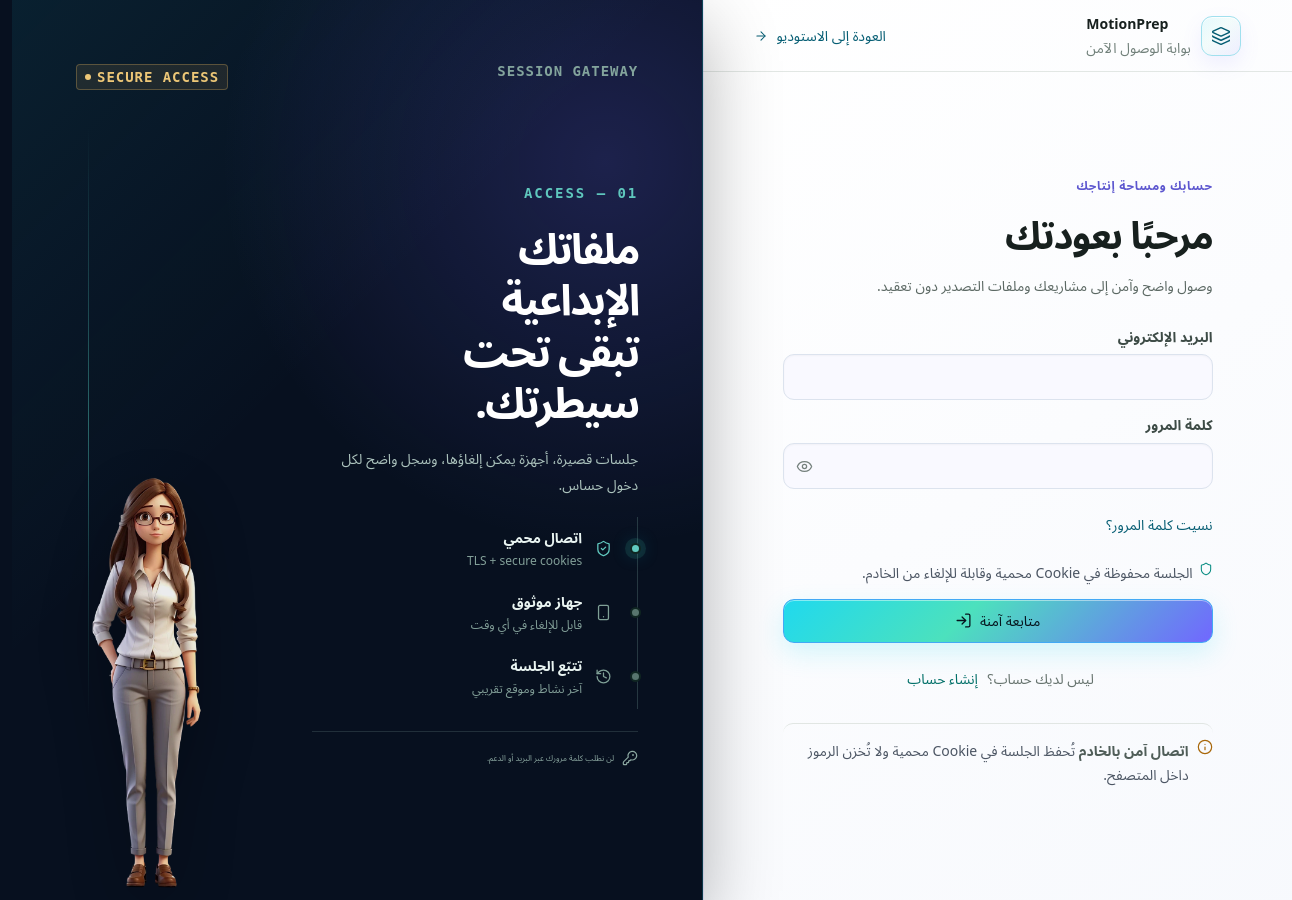
Test: AuthGateway MFA challenge › distinguishes an invalid code from an unavailable server
Step 1. Type "person@example.com" into the field labelled "البريد الإلكتروني" → x=998, y=378, box [784, 356, 1212, 400]
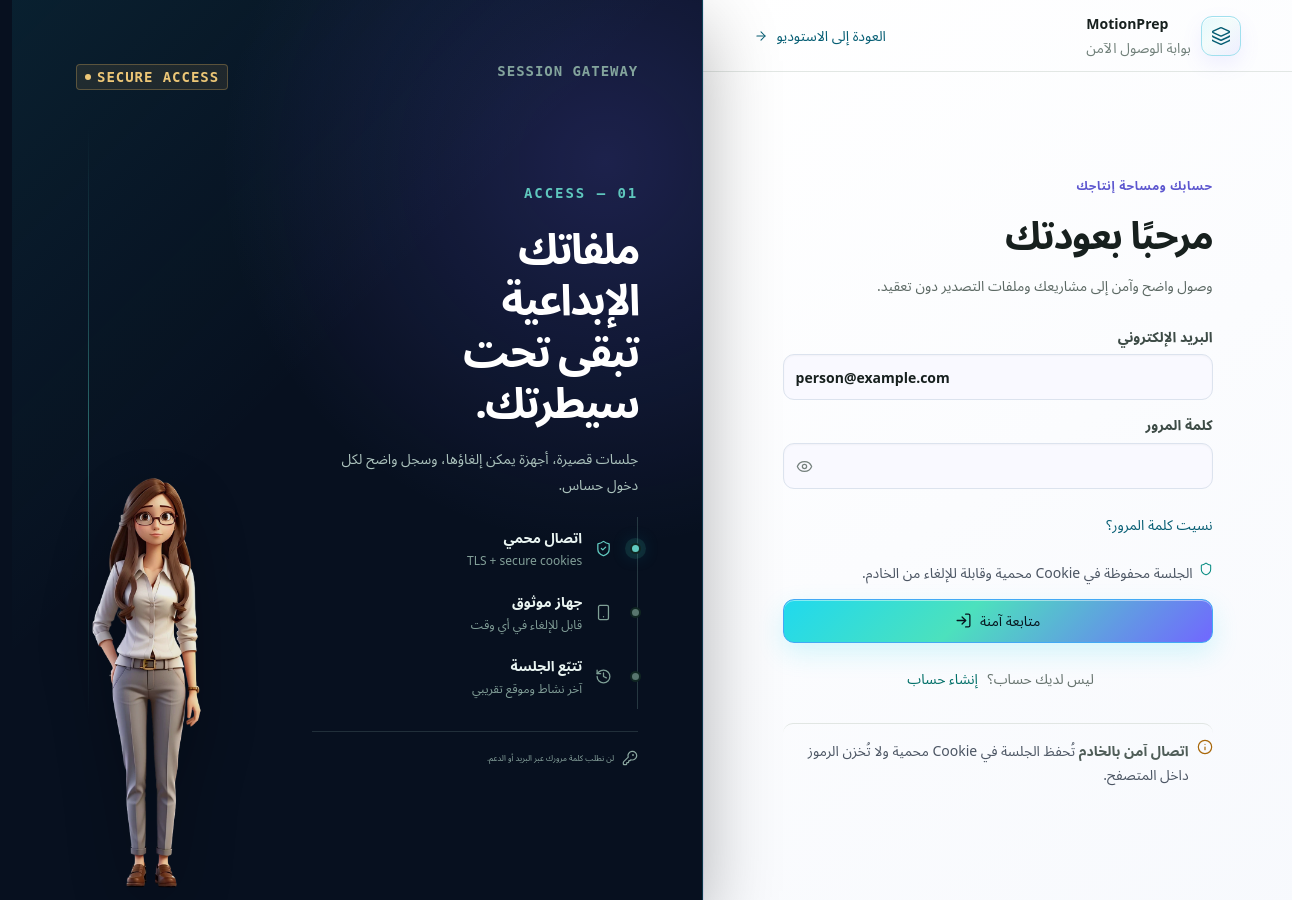
Step 2. Type "Correct-Horse-42!" into the password field labelled "كلمة المرور" → x=1019, y=466, box [826, 444, 1212, 488]
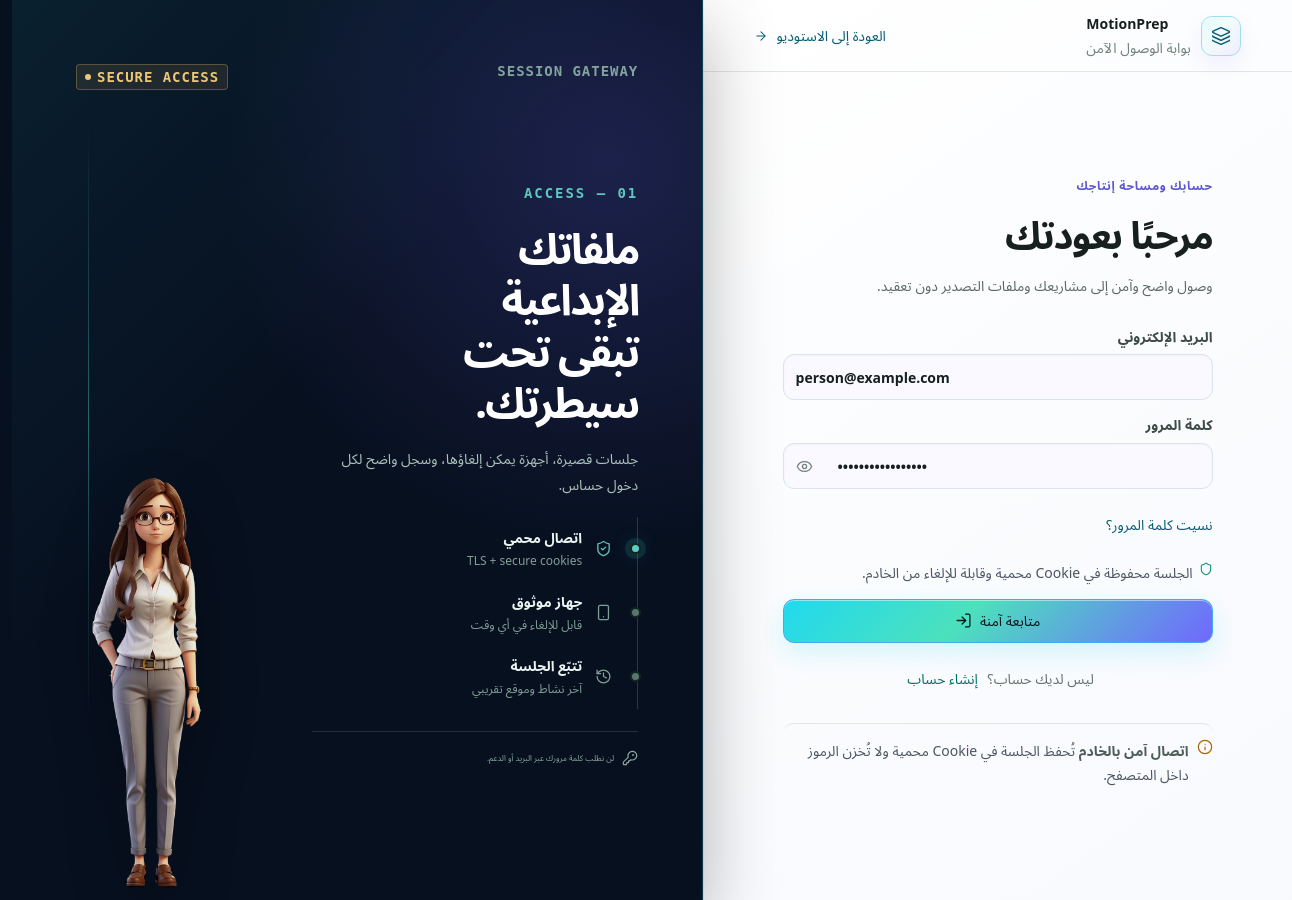
Step 3. Click the button "متابعة آمنة" → x=998, y=621, box [783, 599, 1213, 643]
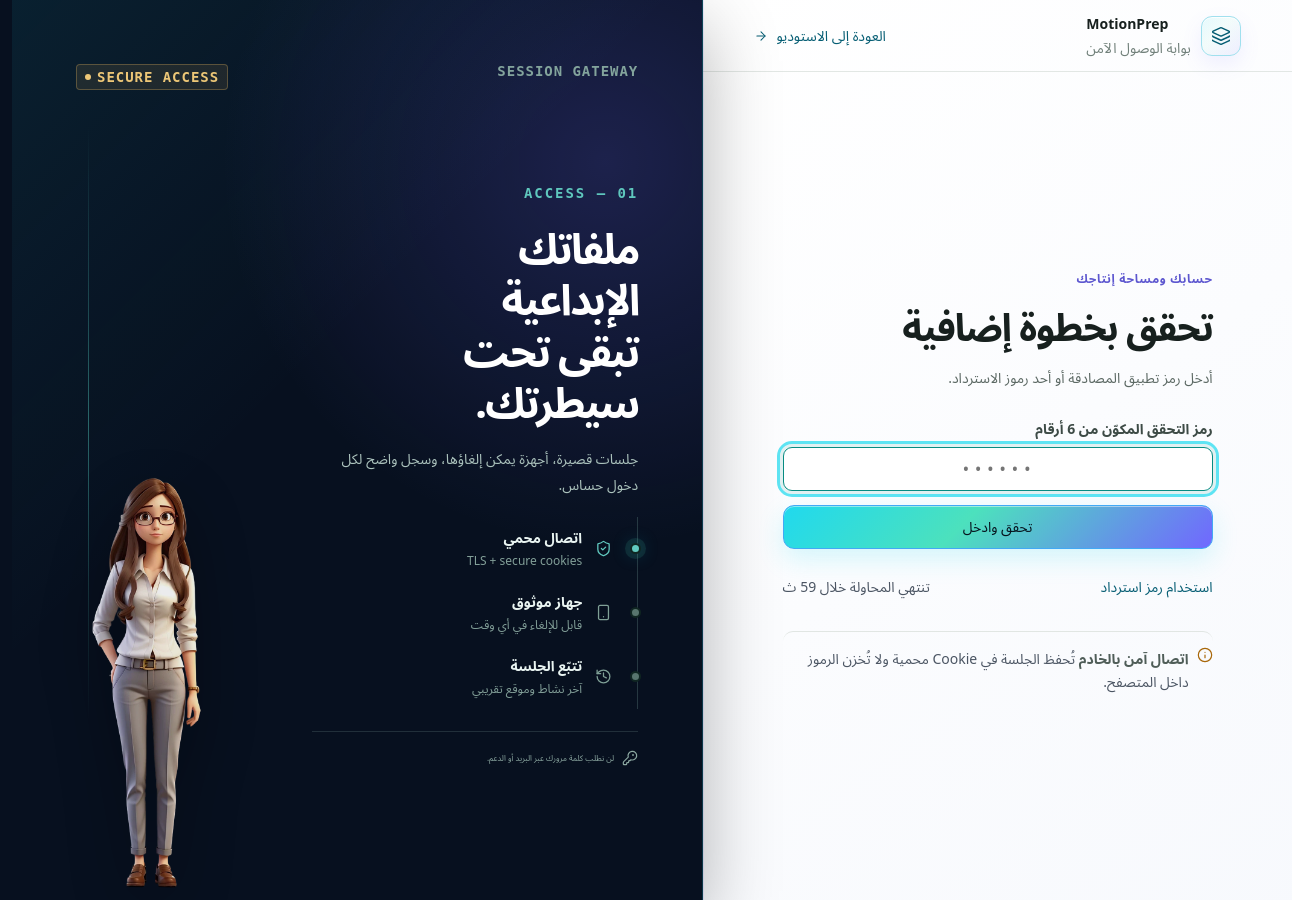
Expected: the field labelled "رمز التحقق" is shown
Step 4. Type "123456" into the field labelled "رمز التحقق" → x=998, y=469, box [783, 447, 1213, 491]
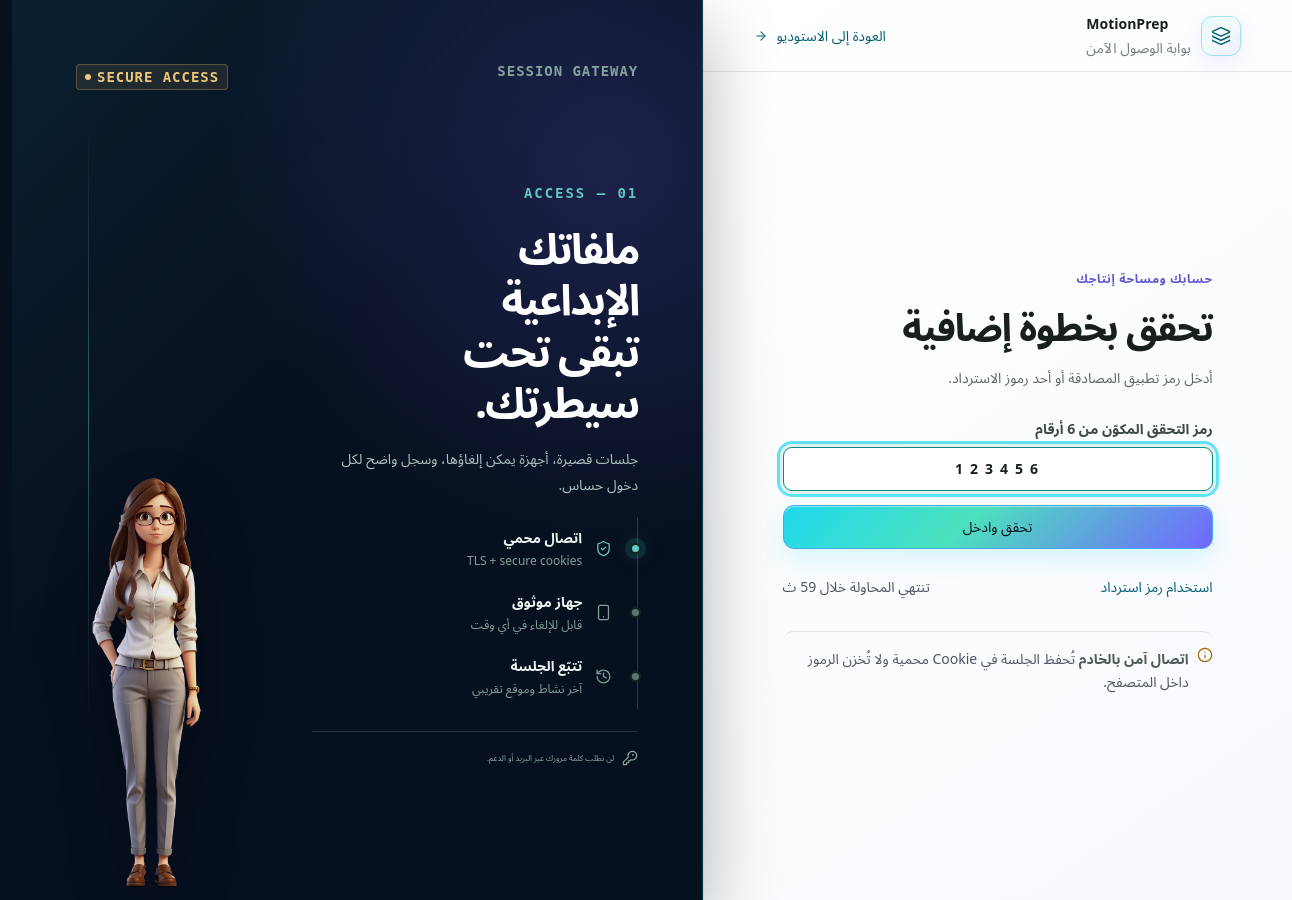
Step 5. Click the button "تحقق وادخل" → x=998, y=527, box [783, 505, 1213, 549]
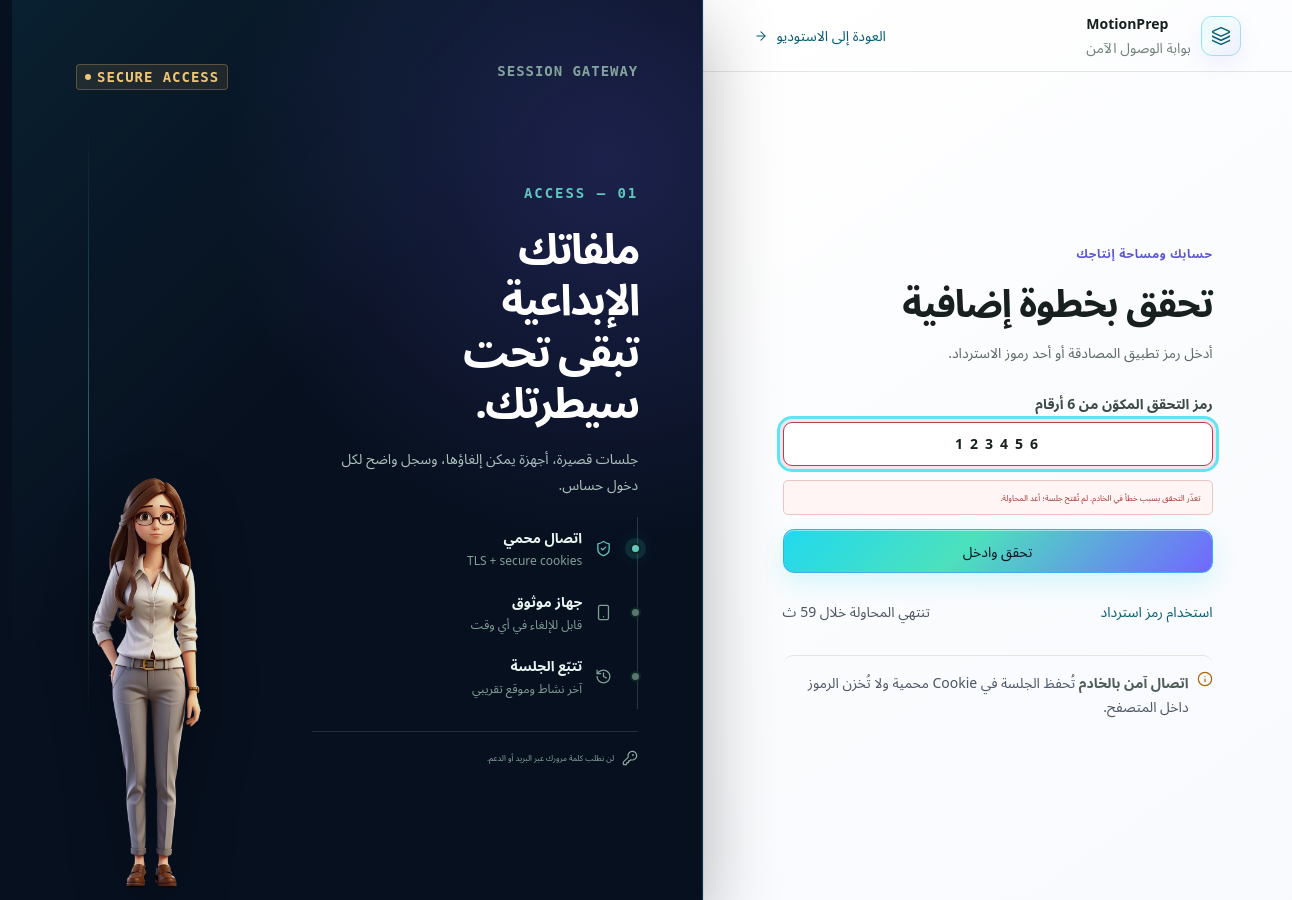
Expected: the message shows "خطأ في الخادم", [1000, 492, 1201, 503]
